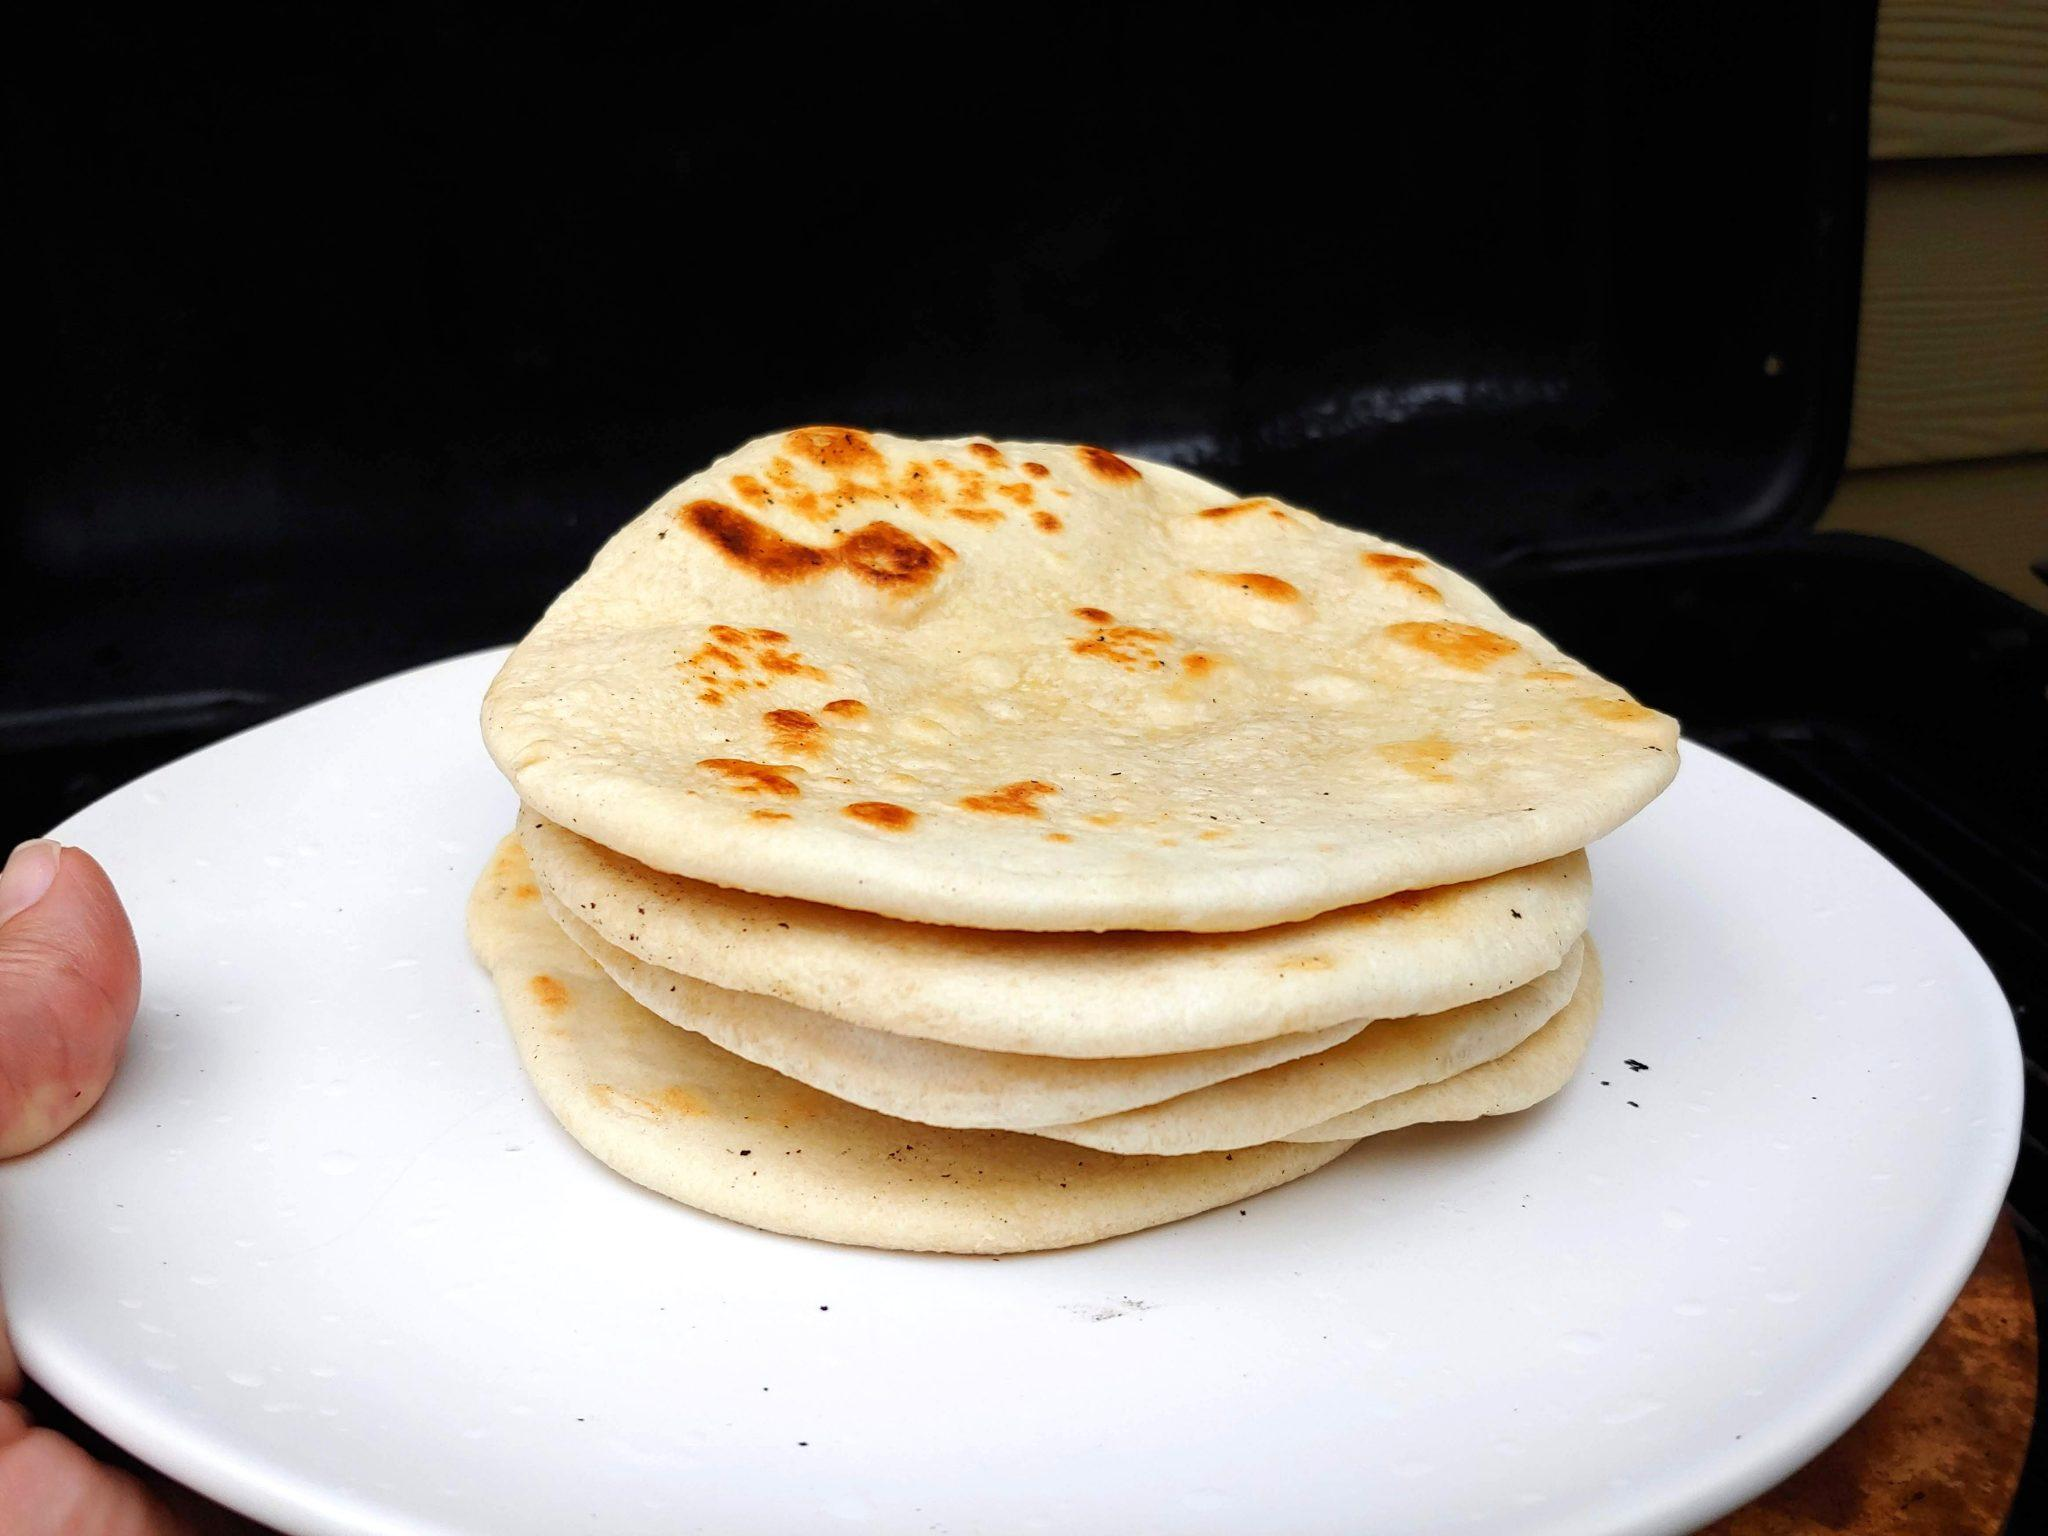chapati: (484, 428, 1675, 933)
